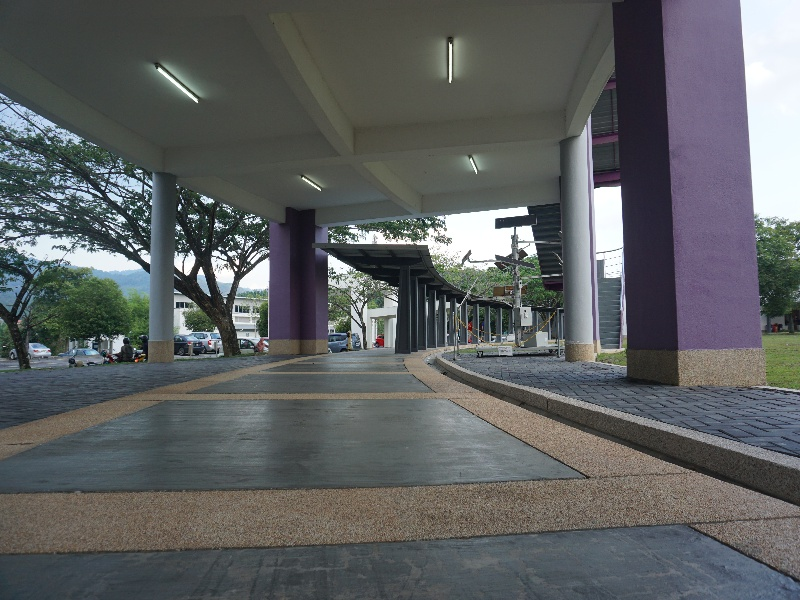Block D Pillar 4: (2, 6, 800, 481)
pillar: (602, 1, 783, 396), (265, 200, 332, 366), (555, 118, 598, 367), (143, 164, 183, 366), (392, 264, 411, 355)
